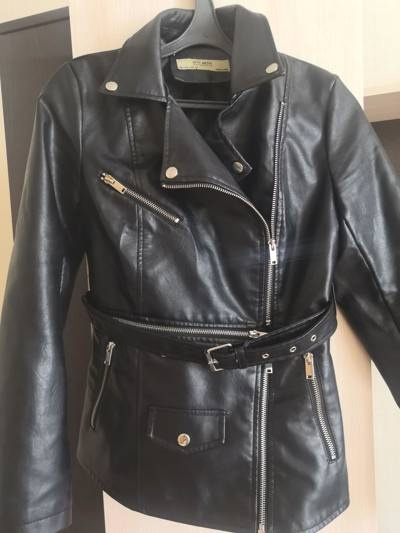Blazer: (4, 23, 400, 530)
